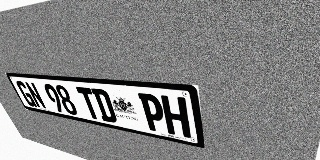8: (54, 84, 79, 116)
9: (42, 83, 66, 113)
D: (91, 88, 118, 124)
G: (15, 81, 37, 107)
H: (160, 95, 191, 138)
N: (24, 82, 47, 109)
P: (138, 93, 167, 133)
T: (76, 87, 102, 120)
